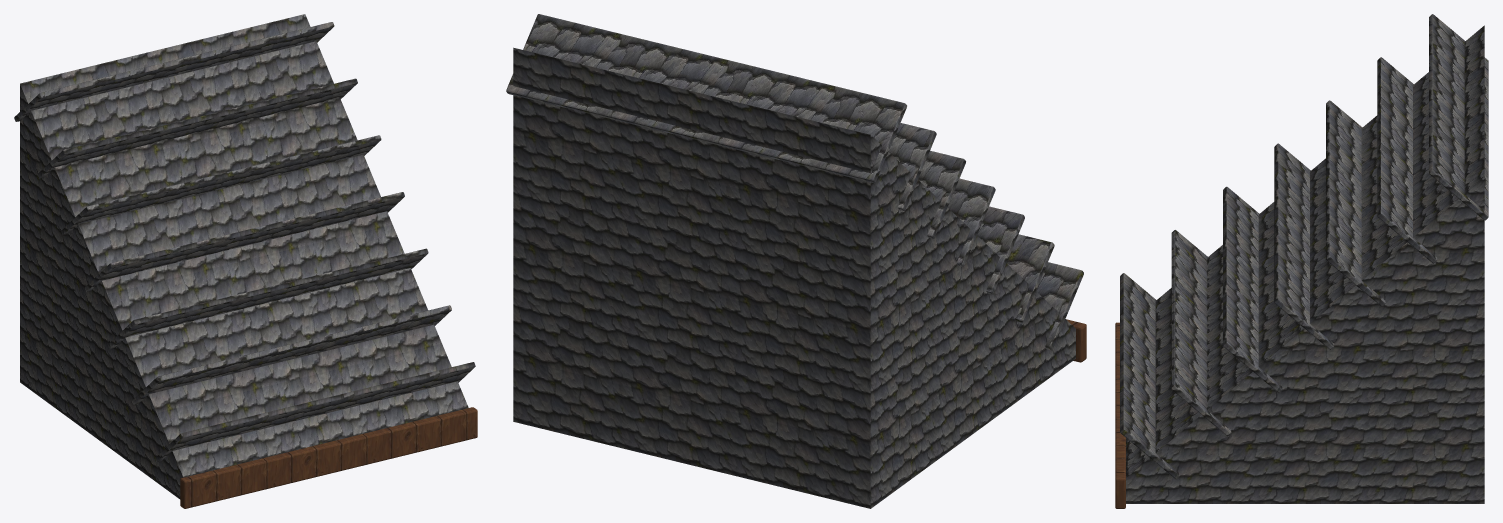
Rendered from roof_45__cut_stone.glb.
3 renders of one model, left to right at view 1: azimuth 30°, elevation 25°; view 2: azimuth 150°, elevation 25°; view 3: azimuth 270°, elevation 25°, orthographic. The views are drawn at different scales.
Parts seen in each view (by area): view 1: model; view 2: model; view 3: model.
Boxes of the visible parts, <box> form: model: <box>14,14,477,508</box>; model: <box>506,14,1086,508</box>; model: <box>1115,14,1488,508</box>.
Size of the model in its own units: 2.06 by 2.08 by 2.07.
2 materials, 2 textured.
